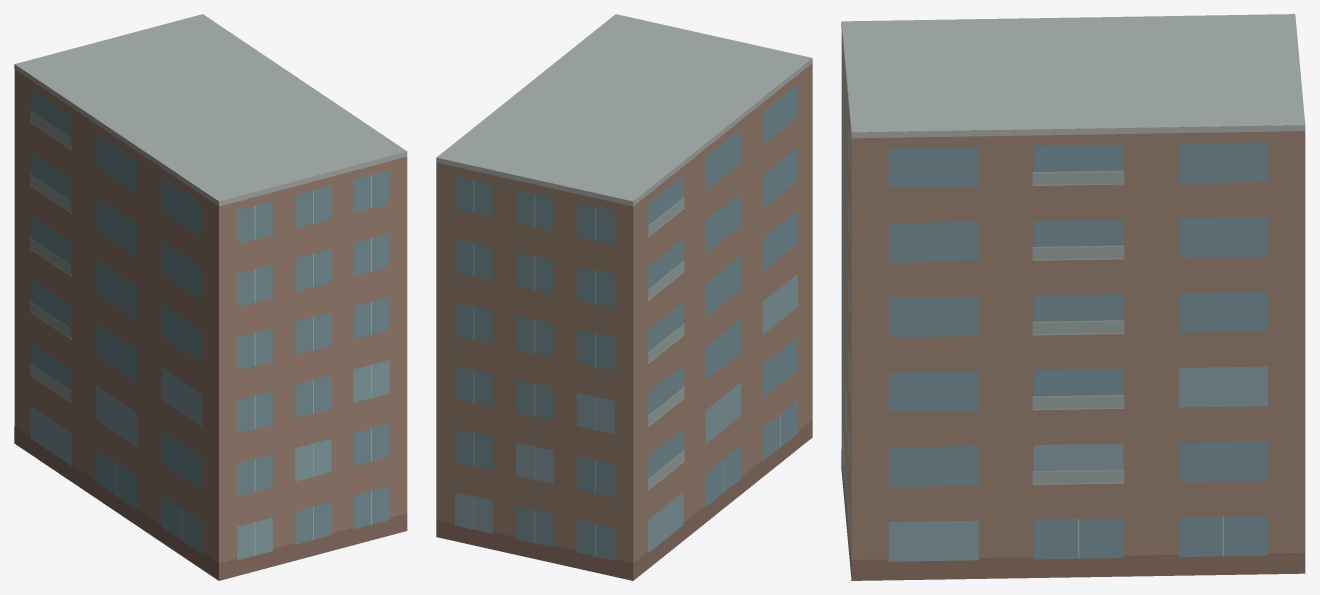
Rendered from survey-upis-32641927.glb.
The picture shows the model from 3 angles, left to right: view 1: azimuth 30°, elevation 25°; view 2: azimuth 150°, elevation 25°; view 3: azimuth 270°, elevation 25°; orthographic projection. The views are drawn at different scales.
Parts seen in each view (by area): view 1: survey-upis-32641927.tmp; view 2: survey-upis-32641927.tmp; view 3: survey-upis-32641927.tmp.
Boxes of the visible parts, left/top/right/bottom form: survey-upis-32641927.tmp: left=14, top=14, right=407, bottom=580; survey-upis-32641927.tmp: left=436, top=14, right=812, bottom=580; survey-upis-32641927.tmp: left=841, top=14, right=1305, bottom=580.
Size of the model in its own units: 10.37 by 18.3 by 17.16.
